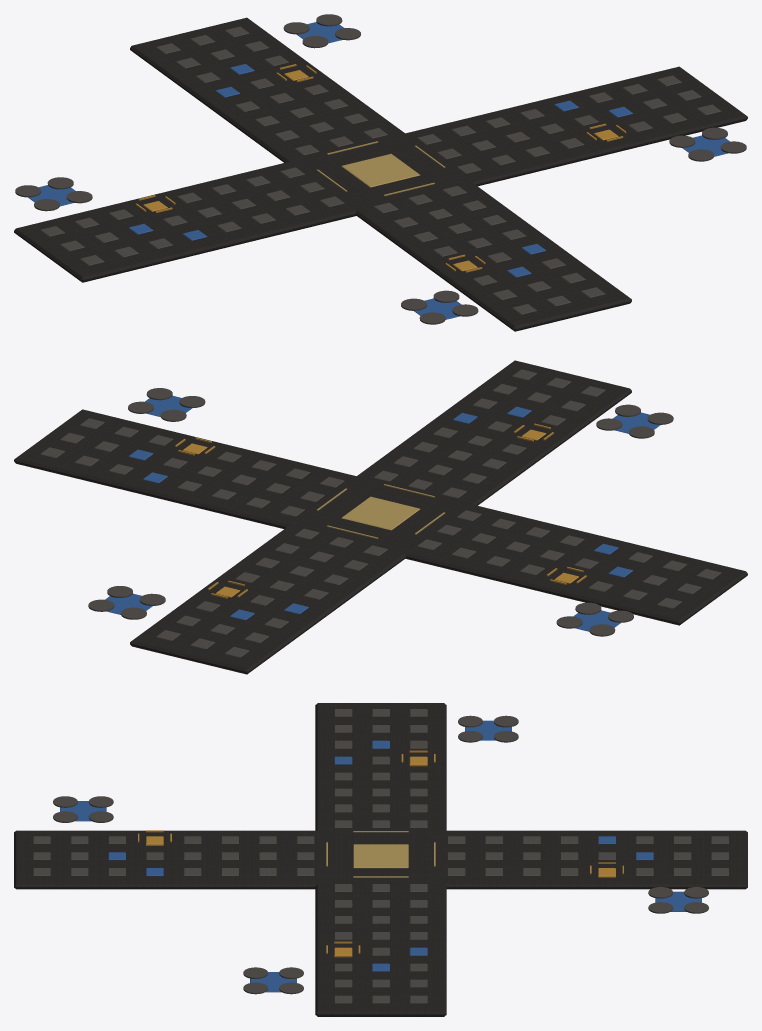
Rendered from board.glb.
The picture shows the model from 3 angles, top to bottom: view 1: azimuth 30°, elevation 25°; view 2: azimuth 150°, elevation 25°; view 3: azimuth 270°, elevation 25°; orthographic projection. The views are drawn at different scales.
Visible parts, largest first — view 1: board_slab, board_tiles; view 2: board_slab, board_tiles; view 3: board_slab, board_tiles.
Boxes of the visible parts, x1,y1,x2,y2 form: board_slab: (14, 17, 747, 331); board_tiles: (15, 14, 746, 324); board_slab: (14, 360, 747, 674); board_tiles: (40, 369, 721, 657); board_slab: (14, 703, 747, 1016); board_tiles: (33, 709, 728, 1003).
Size of the model in its own units: 0.974 by 0.0136 by 0.974.
Materials: 5 (1 with a texture image).
